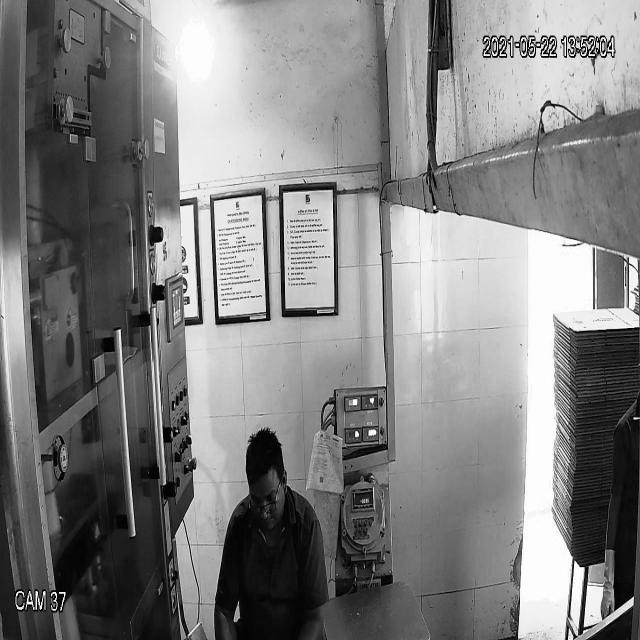glasses: (247, 487, 281, 525)
